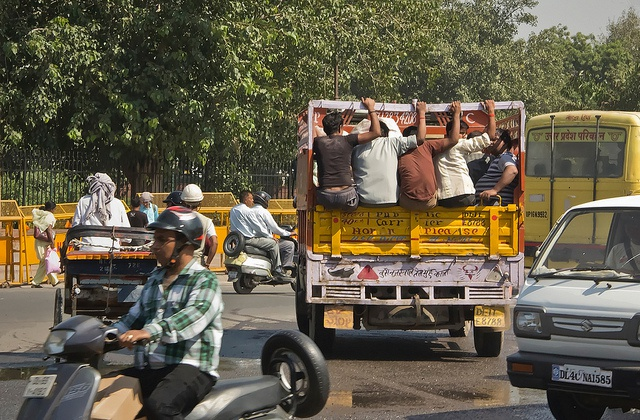non-vehicle: (16, 314, 329, 420), (222, 225, 299, 293)
